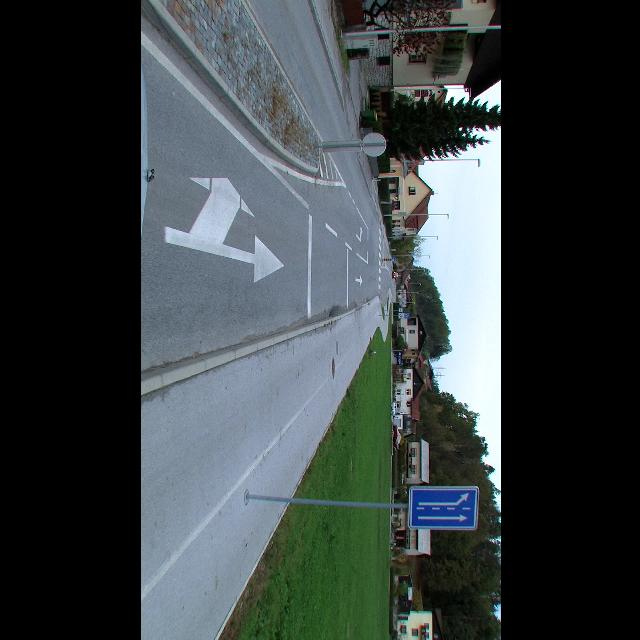Rectangle: (406, 486, 478, 530)
Round: (390, 257, 394, 261)
Squared: (404, 313, 411, 319), (396, 314, 402, 318)
